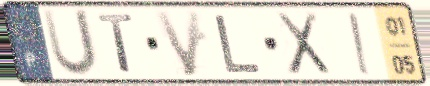I: (345, 11, 375, 78)
L: (213, 12, 265, 75)
T: (95, 12, 137, 75)
U: (39, 7, 101, 80)
V: (151, 8, 204, 79)
X: (272, 10, 333, 78)
